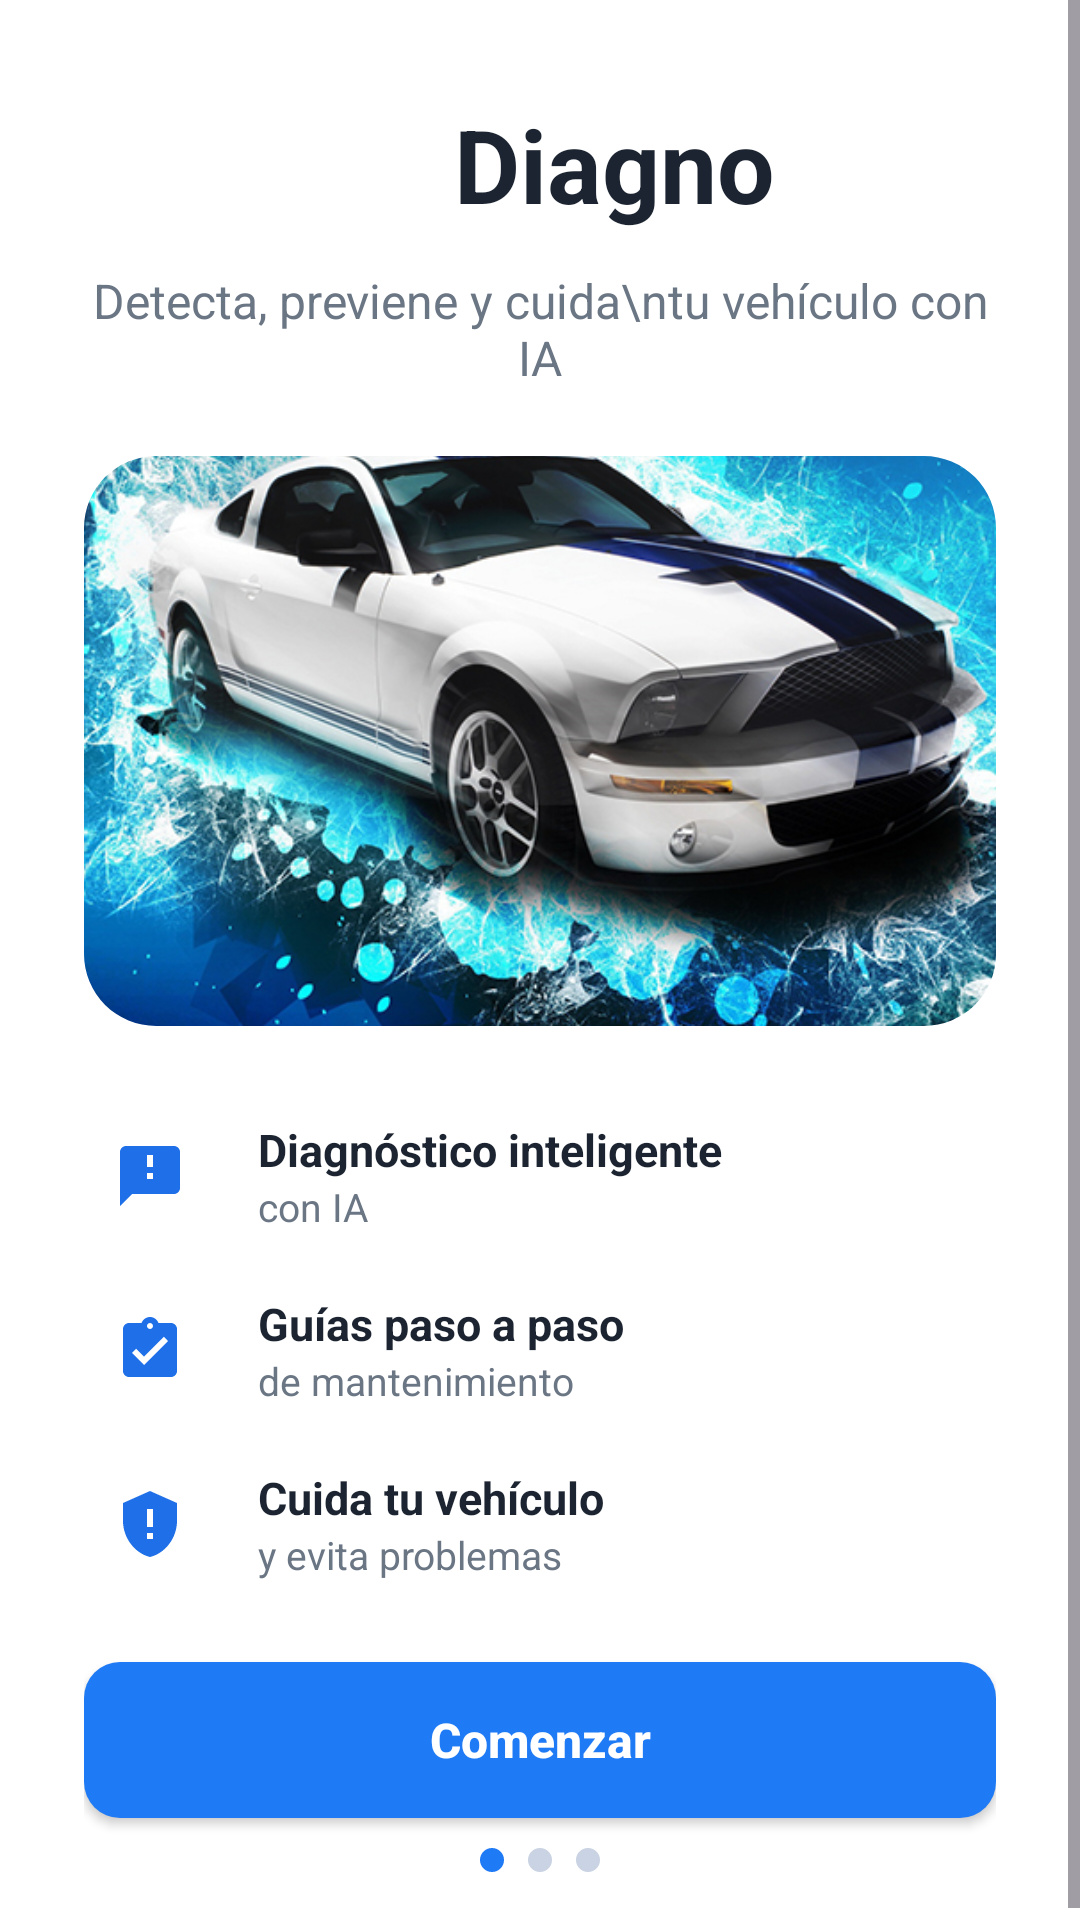

Icons on this 1080*1920 Android screen, each with the point to tap as (x=x, y=y):
bienv cuidado: (x=150, y=1524)
bienv guia: (x=150, y=1347)
